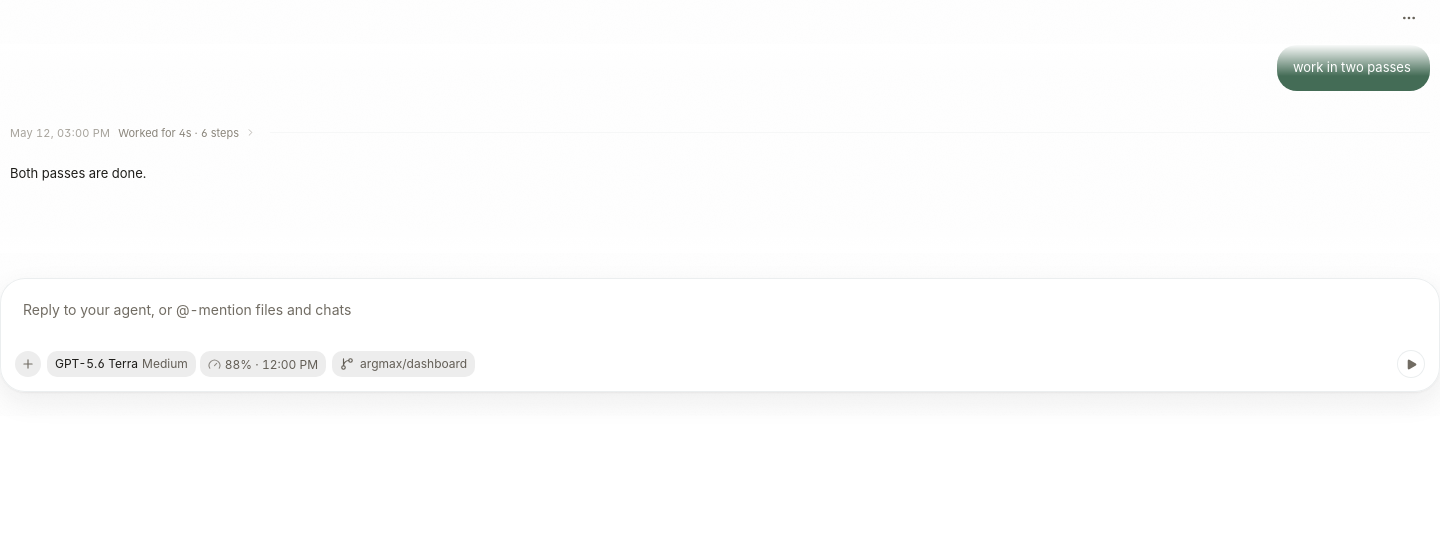
Test: SessionConversation — single-line activity mode › keeps mixed tool groups on either side of commentary in single-line mode
The width and height of the screenshot is (1440, 547).
Click the button "Worked for 4s · 6 steps".
click(190, 133)  # box [118, 125, 262, 141]
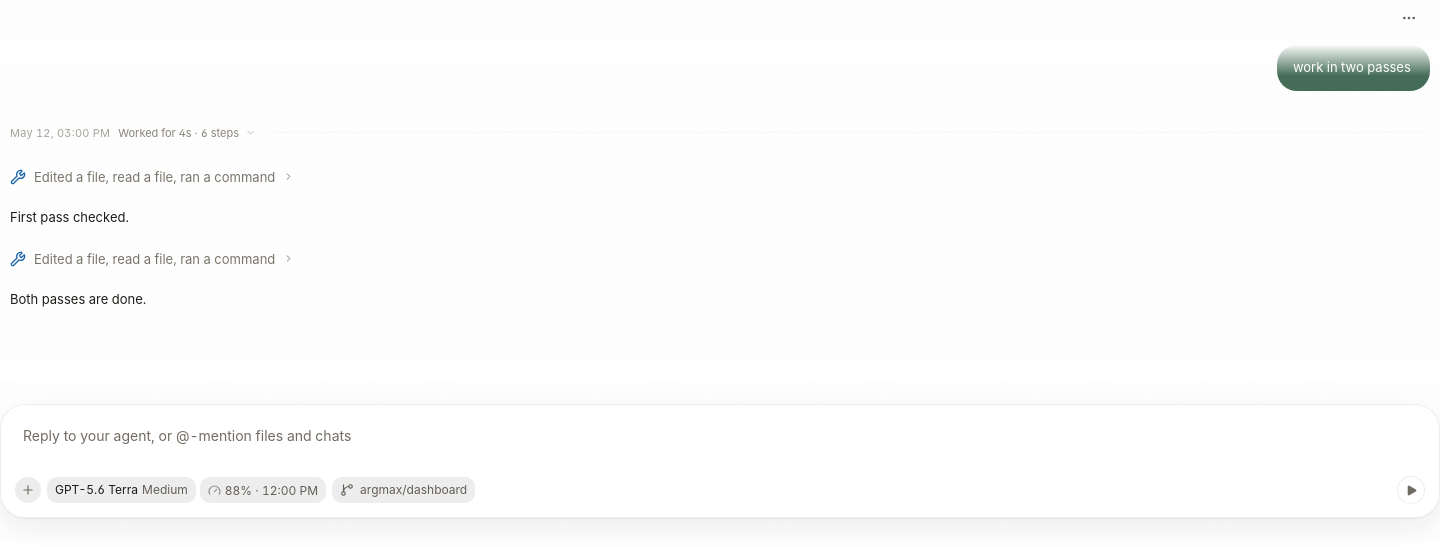
Check: the number of buttons "Edited a file, read a file, ran a command" is 2, box [10, 163, 1430, 191]; [10, 245, 1430, 273]
